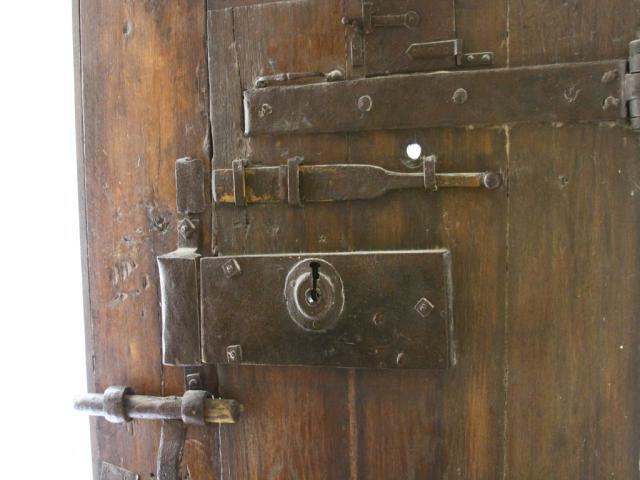Door-handle: (176, 154, 505, 224), (62, 371, 240, 480)
